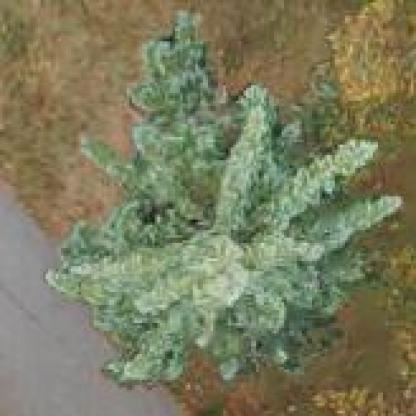Coniferous Tree: (56, 5, 375, 398)
